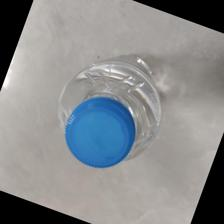Lavie: (50, 50, 182, 168)
